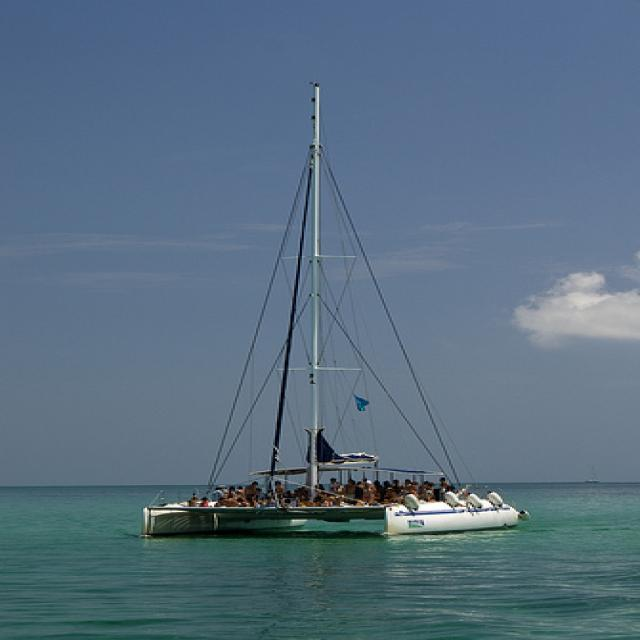Ship: (122, 81, 528, 537)
